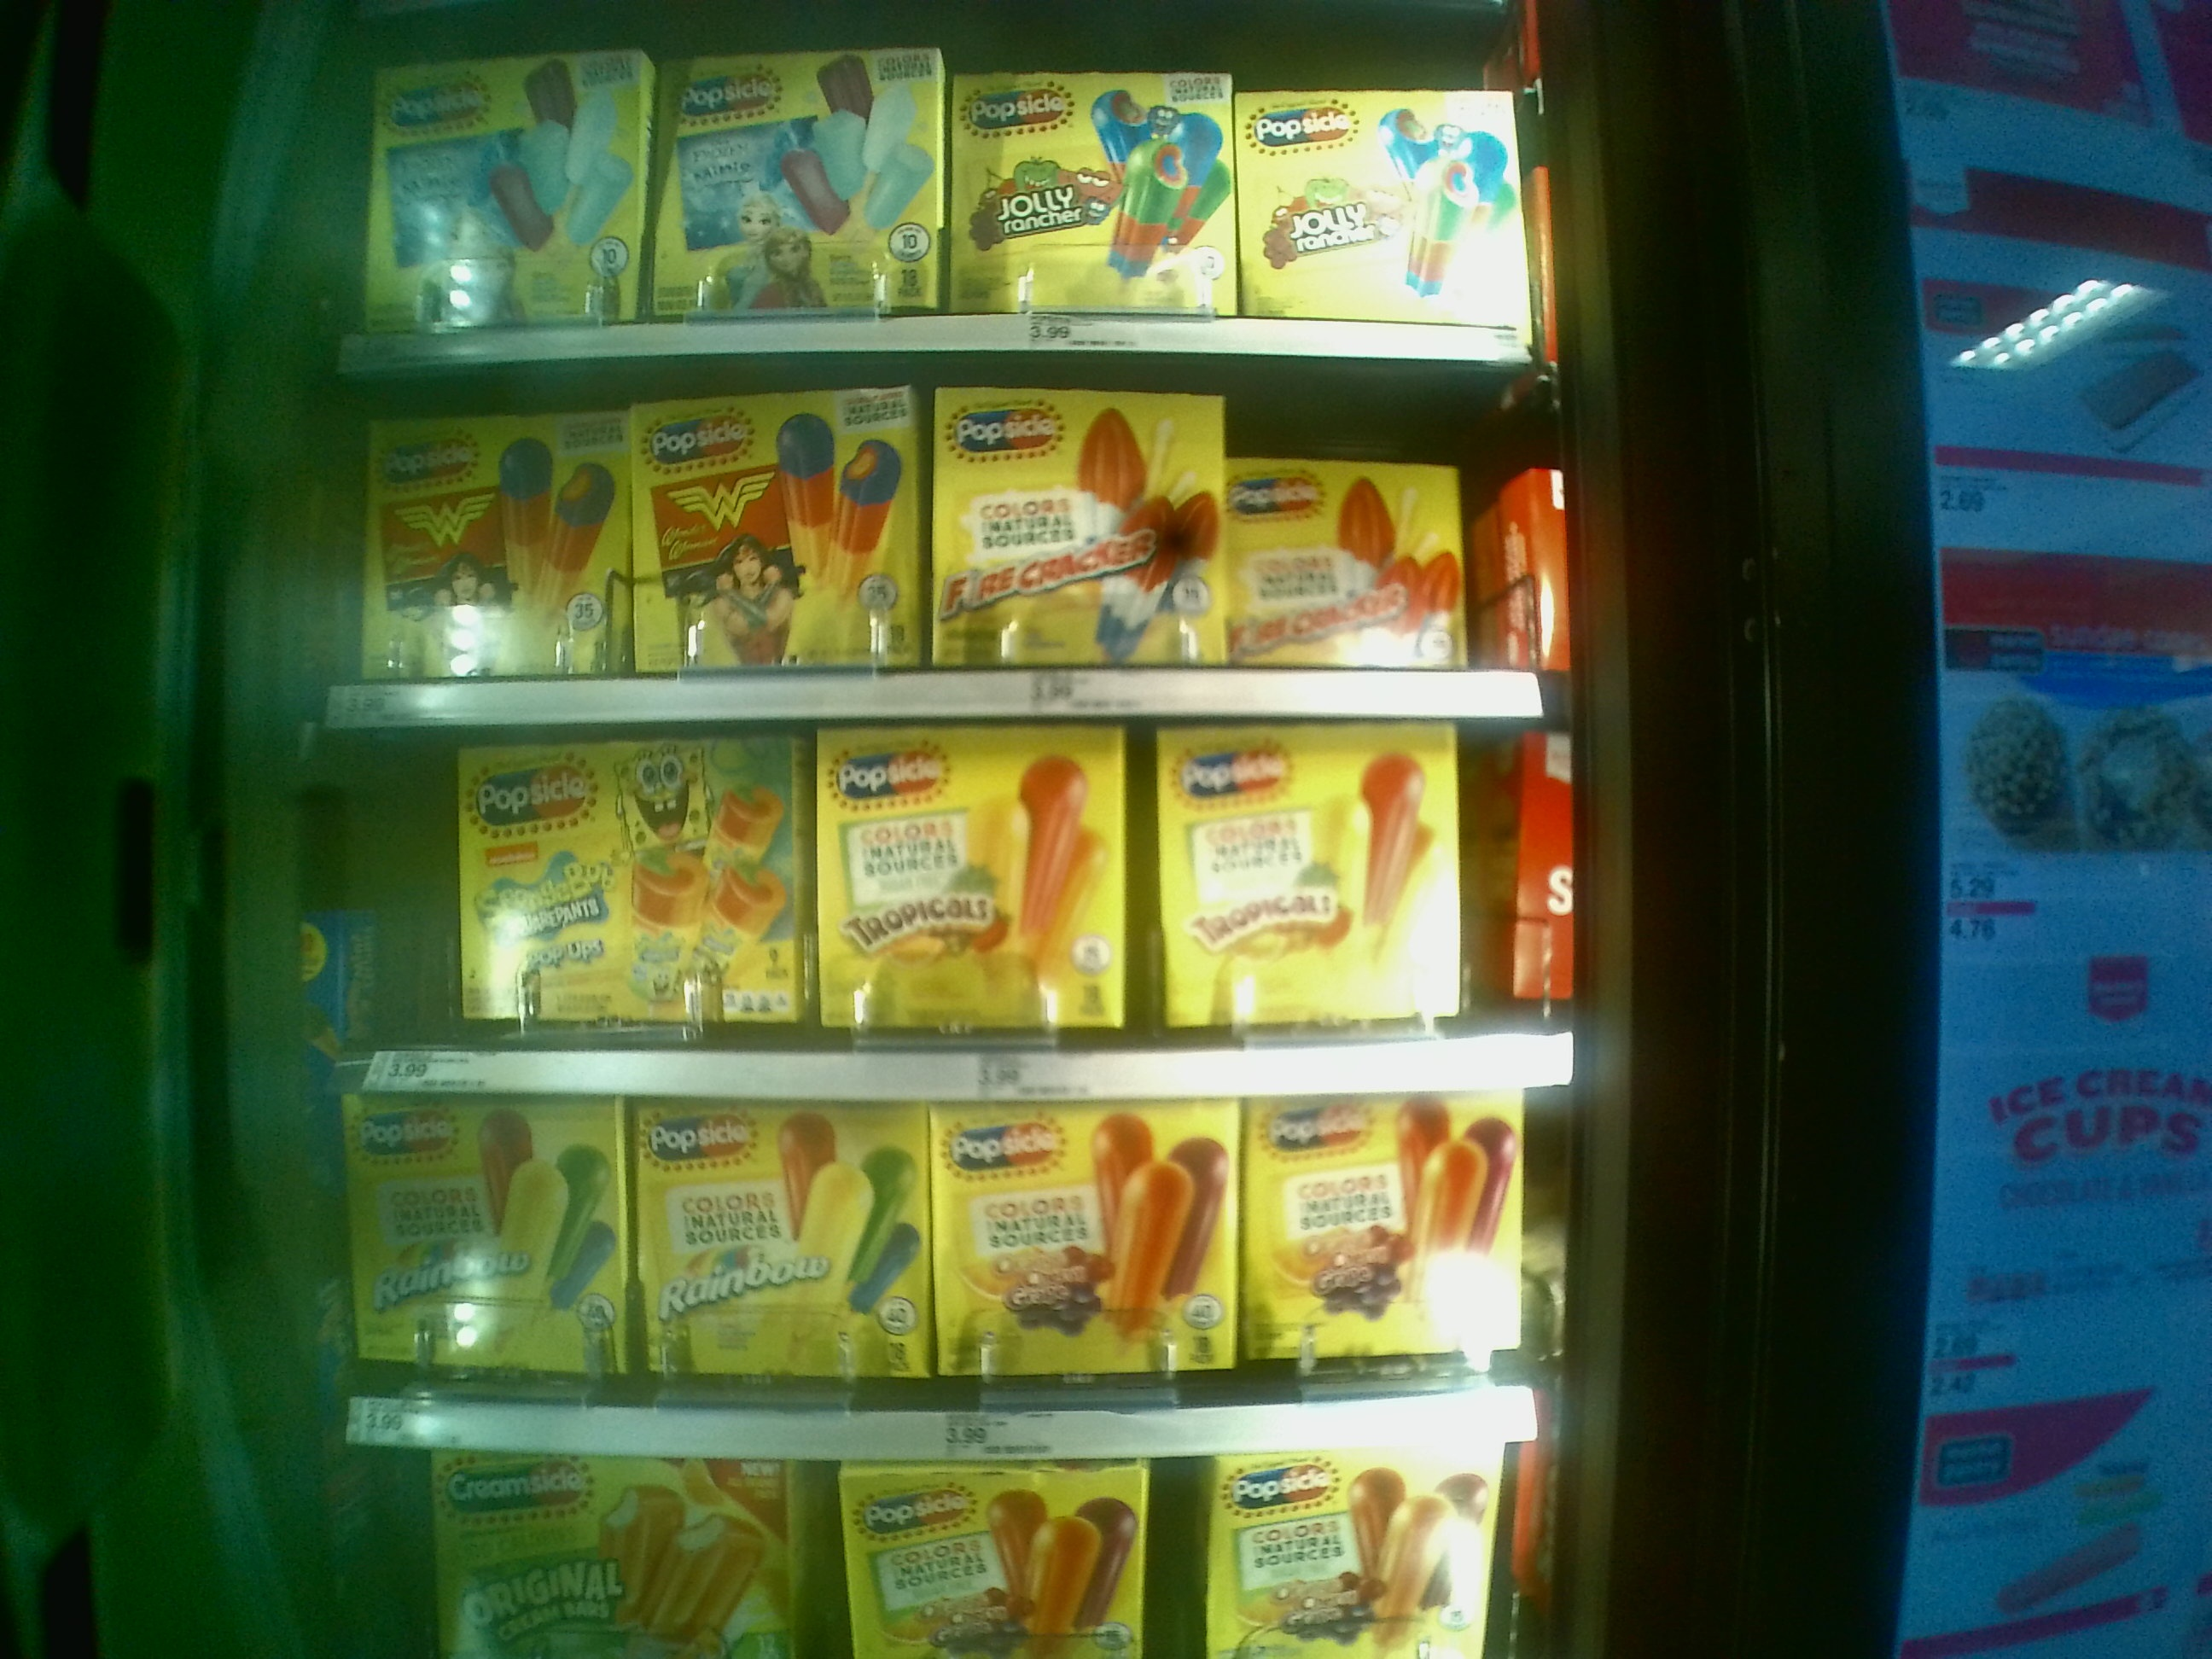frozen-food-shelf: (340, 727, 1564, 1096), (361, 1103, 1522, 1457), (348, 385, 1559, 718), (359, 51, 1515, 369)
